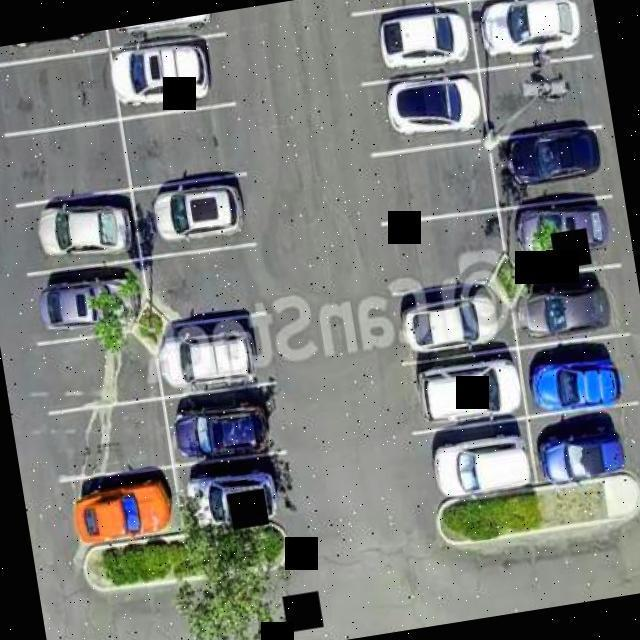car: (146, 282, 272, 402), (92, 22, 220, 134), (59, 450, 177, 556), (23, 165, 140, 266), (140, 162, 254, 265), (171, 446, 301, 536), (411, 342, 529, 438), (20, 258, 148, 346), (371, 56, 494, 145), (392, 270, 508, 360), (172, 396, 285, 484), (370, 1, 474, 90), (508, 272, 622, 352), (424, 432, 538, 512), (490, 122, 598, 204), (532, 412, 631, 500), (526, 349, 633, 426), (475, 0, 594, 68), (511, 198, 620, 266), (109, 13, 220, 54), (0, 29, 113, 61)
free: (378, 214, 506, 302), (148, 236, 264, 327), (484, 47, 604, 133), (126, 106, 236, 199), (8, 123, 124, 205), (374, 149, 494, 226), (38, 340, 158, 416), (50, 408, 169, 483), (0, 56, 111, 128), (346, 0, 463, 13)
